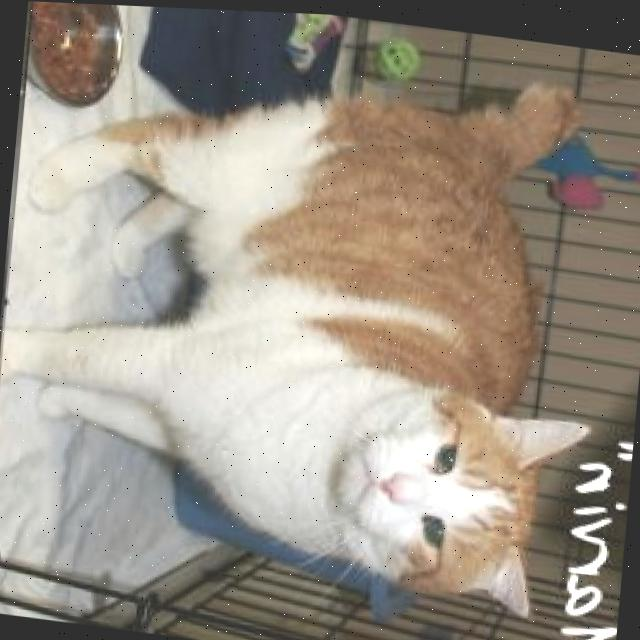American Bobtail: (0, 8, 627, 626)
